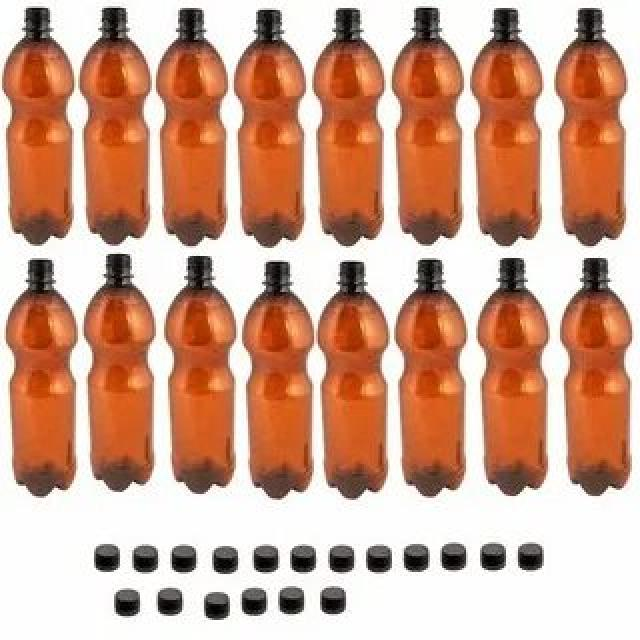brown: (5, 258, 77, 497), (80, 5, 150, 243)
